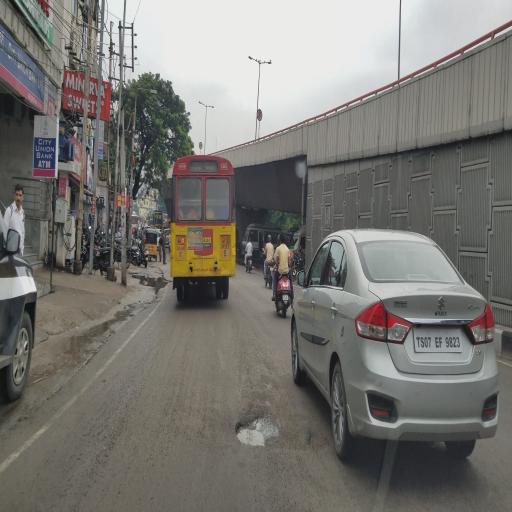street_light_0: (245, 49, 261, 75), (259, 49, 275, 69), (206, 94, 220, 116), (193, 92, 205, 116)
